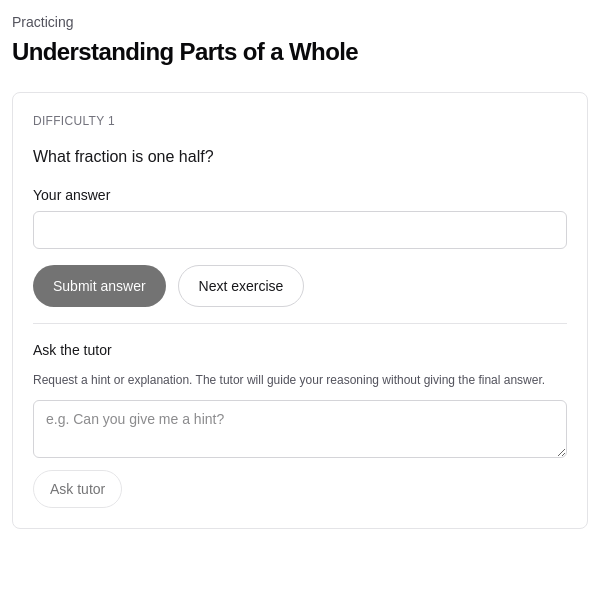
Test case: PracticeSession › shows an error when the attempts API fails
Type "1/2" into the field labelled "Your answer" at point(300, 230), box [33,211,567,249]
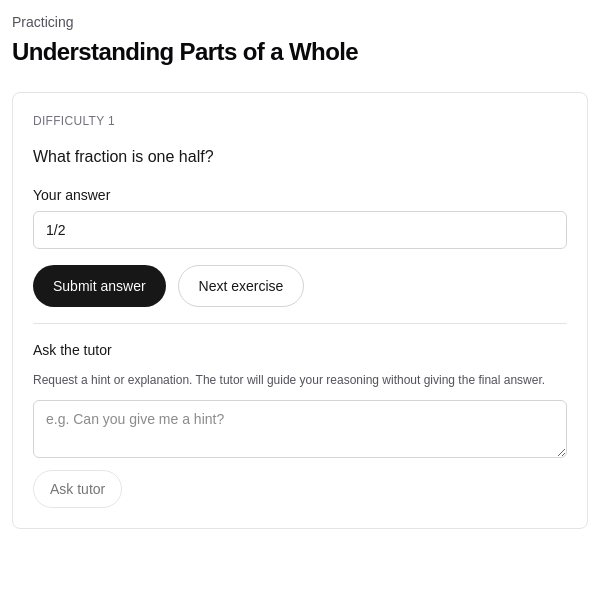
Click the button "Submit answer" at point(99, 286), box [33,265,166,307]
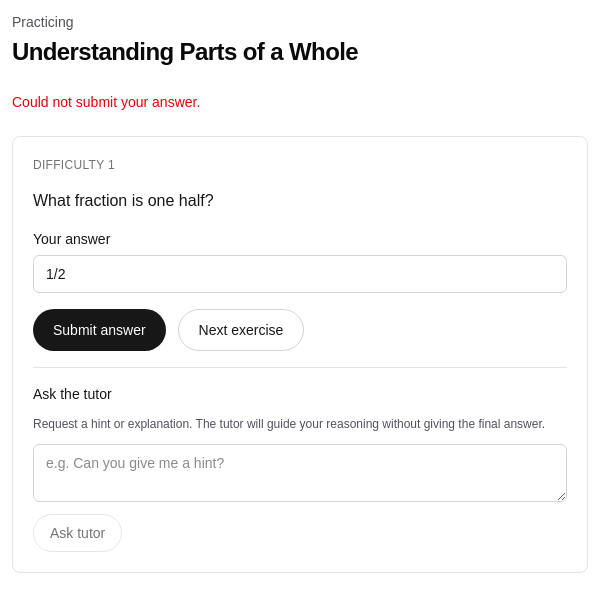
Now the message reads "Could not submit your answer.", box [12,94,200,110]
